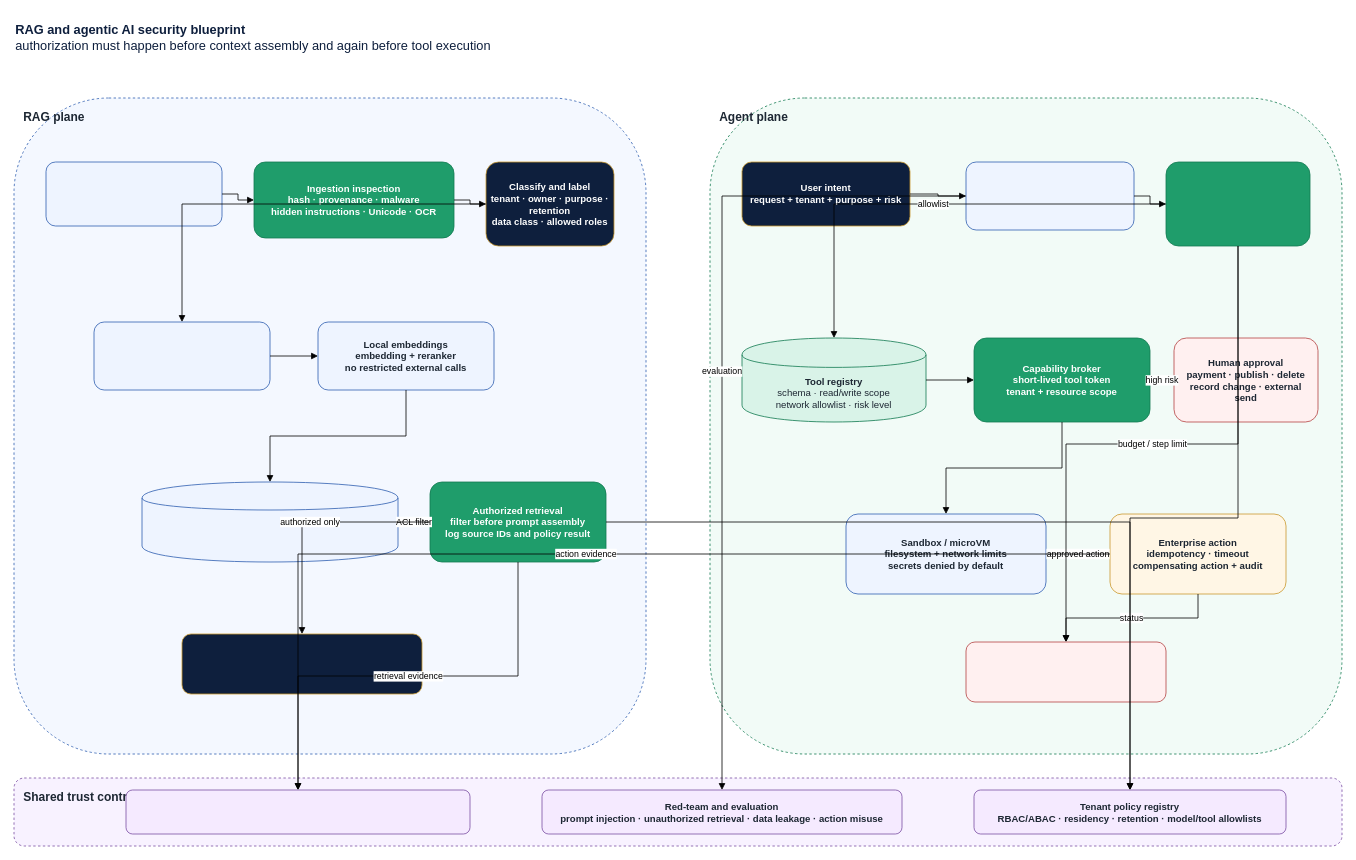
Some shapes in this 1356 by 860 pixel diagram are drawn without their labels. The centre of each missing label's shape, as x and y in pixels:
"Documents / data sources files · databases · web · email" goes at (133,193).
"Immutable audit retrieval IDs · plan · tool call · approval · output validation" goes at (297,811).
"Kill switch max steps · cost cap circuit breaker · revoke token" goes at (1065,671).
"Minimal context only permitted chunks enter model context" goes at (301,663).
"Plan generator model proposes steps not an authority" goes at (1049,195).
"Plan policy check allowed tools · data scope max steps · budget · approvals" goes at (1237,203).
"Secure chunking keep ACL labels with content source hash + version" goes at (181,355).
"Tenant-partitioned vector DB ACL/classification metadata encryption + retention" goes at (269,521).
